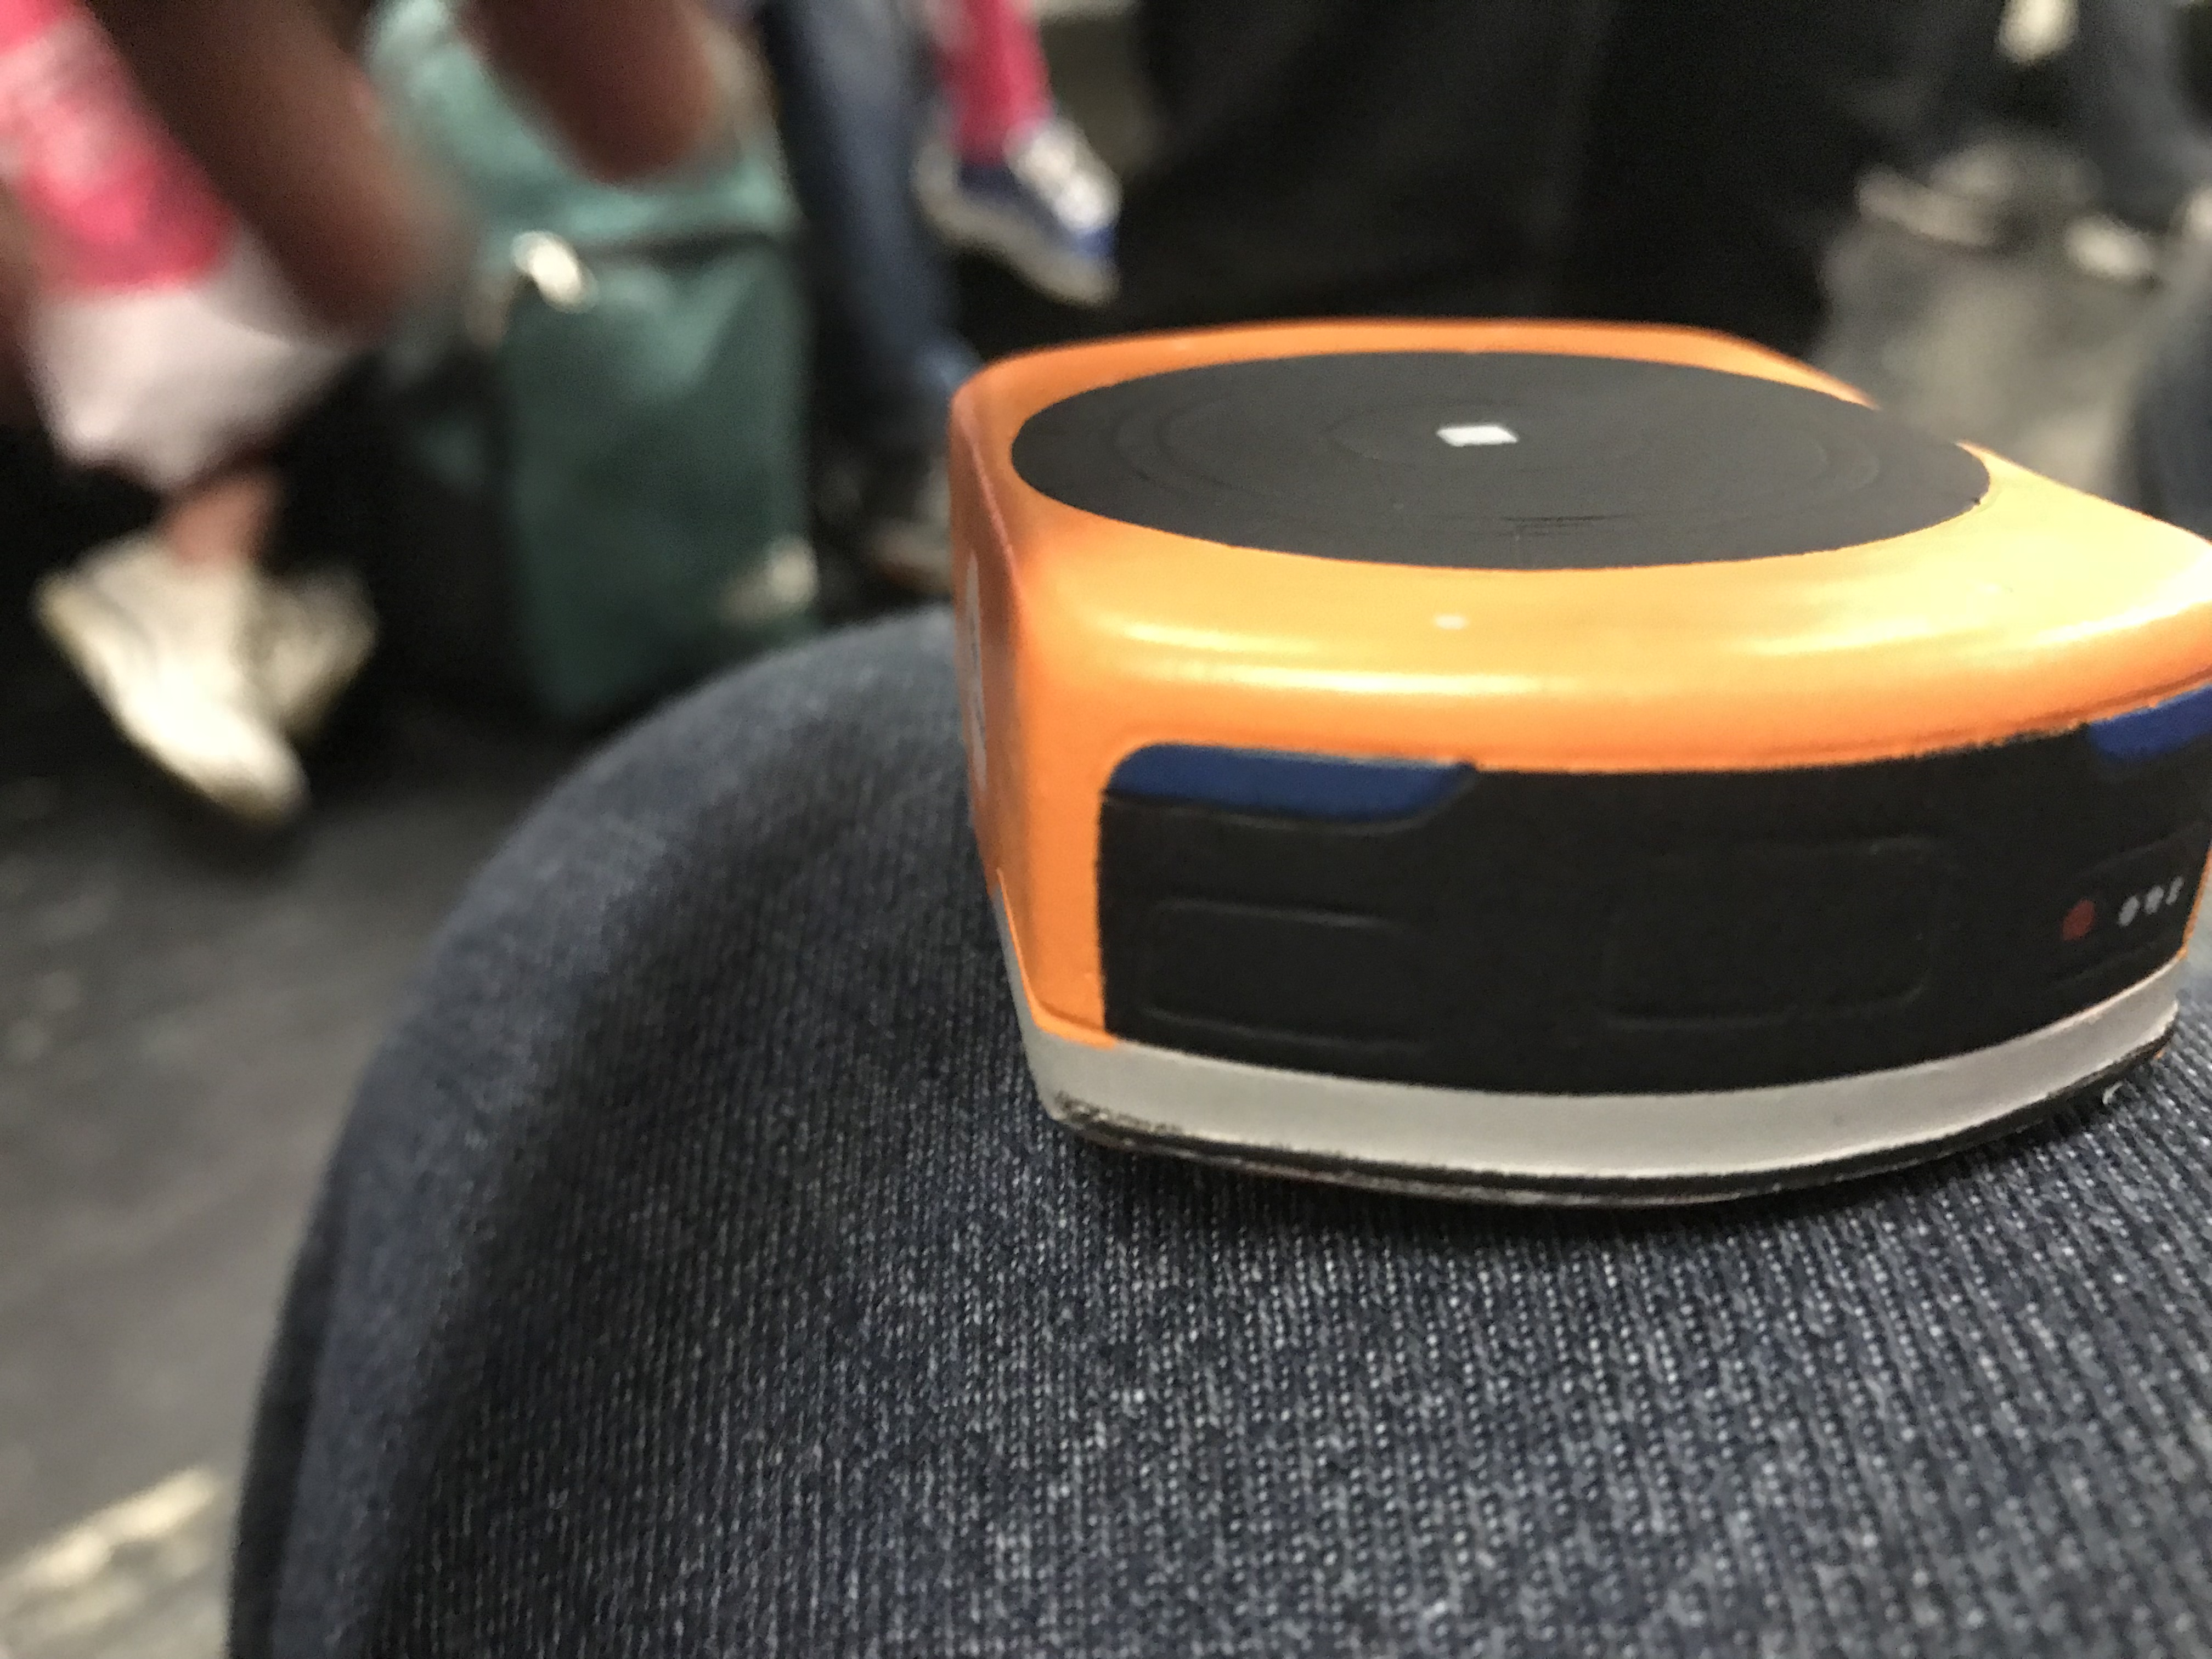amazon_bot: (902, 275, 2212, 1227)
